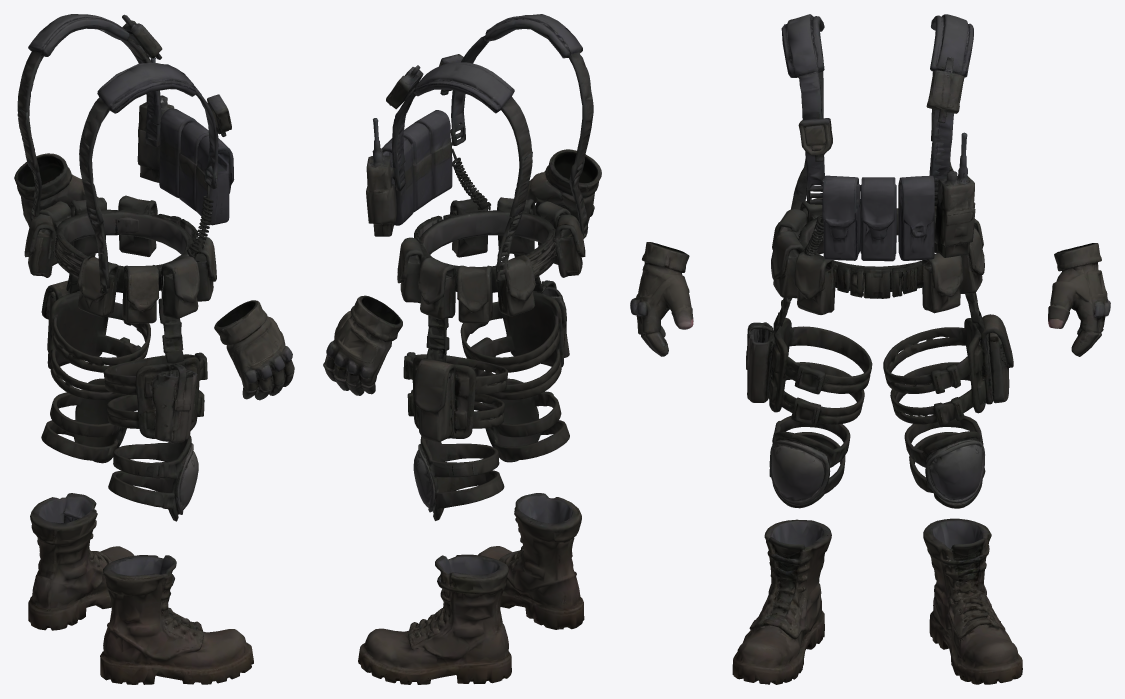
File: tactical.glb
The picture shows the model from 3 angles, left to right: view 1: azimuth 30°, elevation 25°; view 2: azimuth 150°, elevation 25°; view 3: azimuth 270°, elevation 25°; orthographic projection. The views are drawn at different scales.
Parts seen in each view (by area): view 1: tripo_part_10, tripo_part_2, tripo_part_18, tripo_part_3, tripo_part_17, tripo_part_5, tripo_part_4, tripo_part_0, tripo_part_14, tripo_part_16, tripo_part_8, tripo_part_20 (+7 smaller); view 2: tripo_part_10, tripo_part_18, tripo_part_2, tripo_part_17, tripo_part_3, tripo_part_14, tripo_part_16, tripo_part_20, tripo_part_5, tripo_part_4, tripo_part_8, tripo_part_15 (+6 smaller); view 3: tripo_part_10, tripo_part_18, tripo_part_2, tripo_part_17, tripo_part_3, tripo_part_8, tripo_part_16, tripo_part_4, tripo_part_20, tripo_part_0, tripo_part_5, tripo_part_14 (+3 smaller).
Boxes of the visible parts, x1,y1,x2,y2 form: tripo_part_10: (24,195,216,323); tripo_part_2: (100,555,253,684); tripo_part_18: (28,493,134,630); tripo_part_3: (103,352,207,443); tripo_part_17: (41,280,150,399); tripo_part_5: (79,63,218,288); tripo_part_4: (108,435,198,521); tripo_part_0: (214,300,294,400); tripo_part_14: (17,14,162,172); tripo_part_16: (41,378,126,463); tripo_part_8: (179,121,234,225); tripo_part_20: (14,153,99,226); tripo_part_10: (397,197,587,323); tripo_part_18: (358,554,511,684); tripo_part_2: (478,493,584,629); tripo_part_17: (403,352,508,442); tripo_part_3: (460,280,569,399); tripo_part_14: (386,62,532,218); tripo_part_16: (413,437,504,520); tripo_part_20: (323,295,402,395); tripo_part_5: (450,14,593,233); tripo_part_4: (482,378,569,462); tripo_part_8: (403,110,452,212); tripo_part_15: (366,88,414,236); tripo_part_10: (771,198,984,314); tripo_part_18: (923,518,1022,684); tripo_part_2: (732,519,831,684); tripo_part_17: (883,314,1013,426); tripo_part_3: (746,317,872,426); tripo_part_8: (822,175,896,261); tripo_part_16: (904,415,985,508); tripo_part_4: (769,415,850,508); tripo_part_20: (1048,243,1110,356); tripo_part_0: (630,242,693,356); tripo_part_5: (781,14,824,209); tripo_part_14: (926,14,973,182).
Size of the model in its own units: 0.2776 by 1 by 0.6925.
21 materials, 21 textured.
